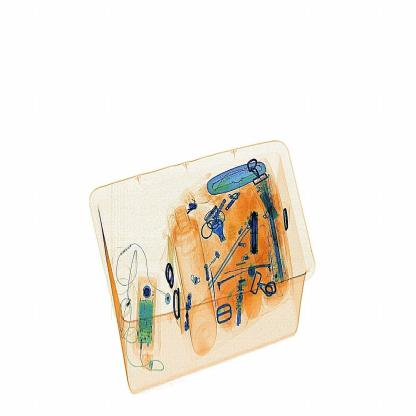scissors: (243, 202, 269, 260)
